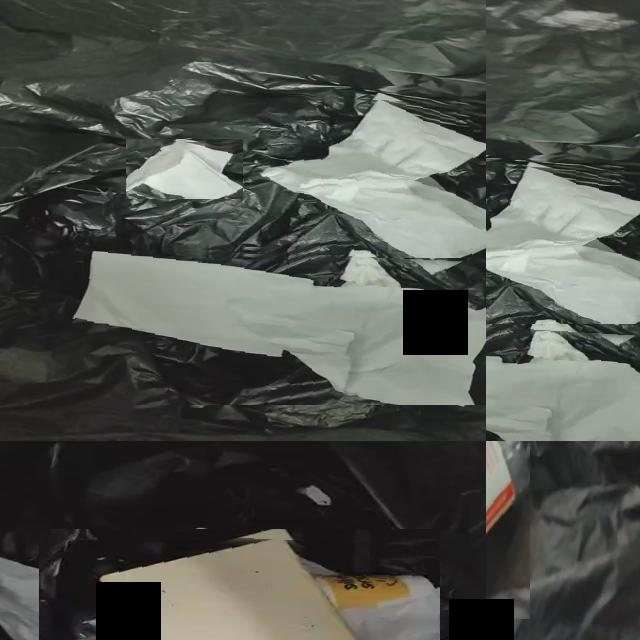bottle: (486, 441, 530, 527)
carton: (103, 538, 361, 640)
dixie_cup: (45, 559, 162, 599)
paper: (75, 252, 486, 405), (262, 99, 486, 258), (486, 166, 640, 324), (486, 327, 640, 441), (0, 558, 137, 640), (126, 141, 242, 199)
